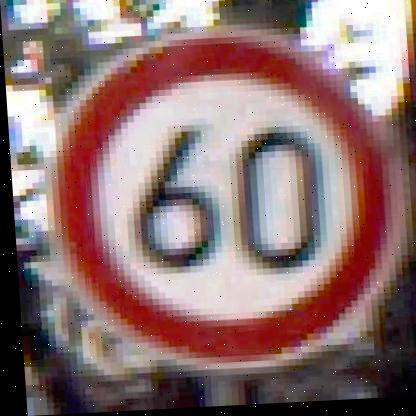Speed Limit -60-: (34, 25, 404, 380)
